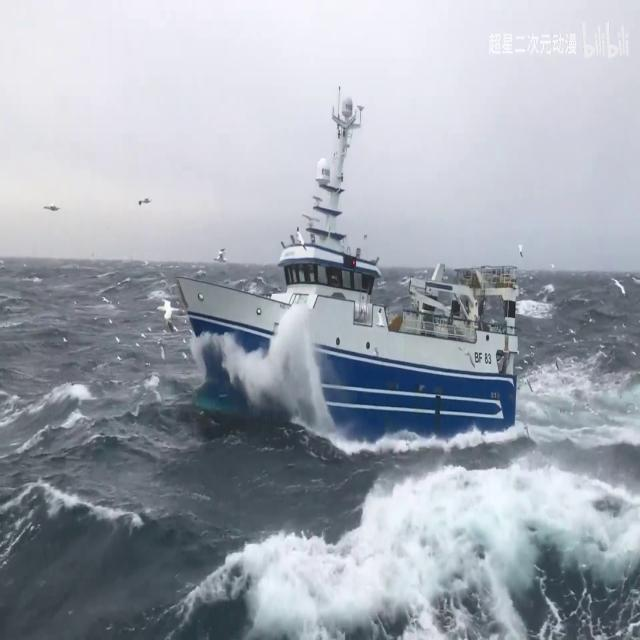houseboat: (180, 87, 520, 428)
